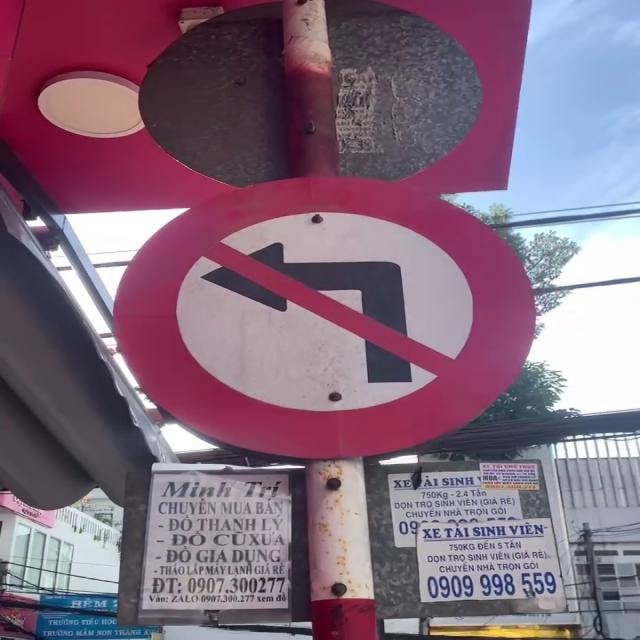Cam_Re_Trai: (110, 176, 536, 460)
